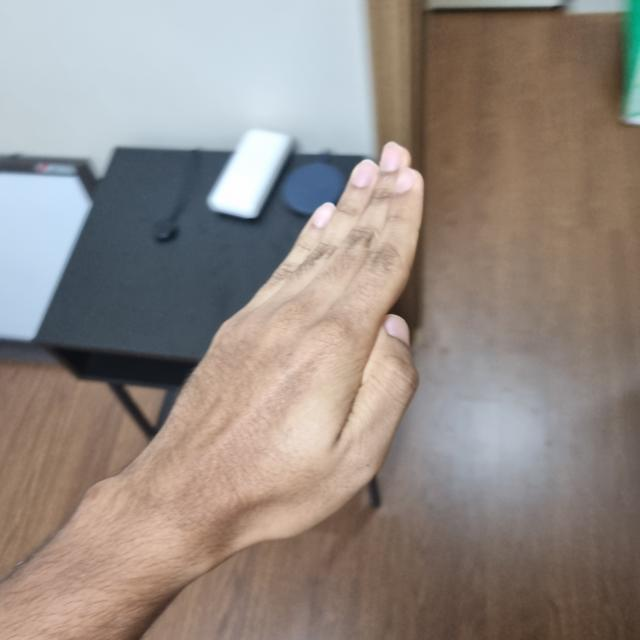Paper: (155, 150, 423, 541)
